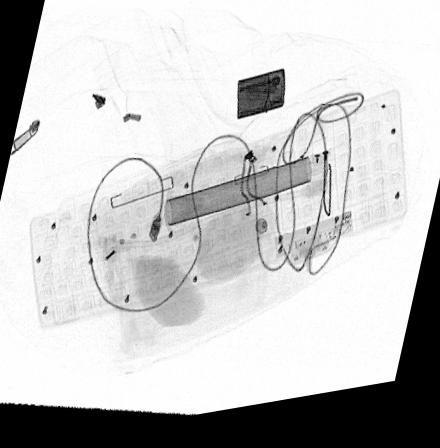Lighter: (237, 78, 285, 128)
